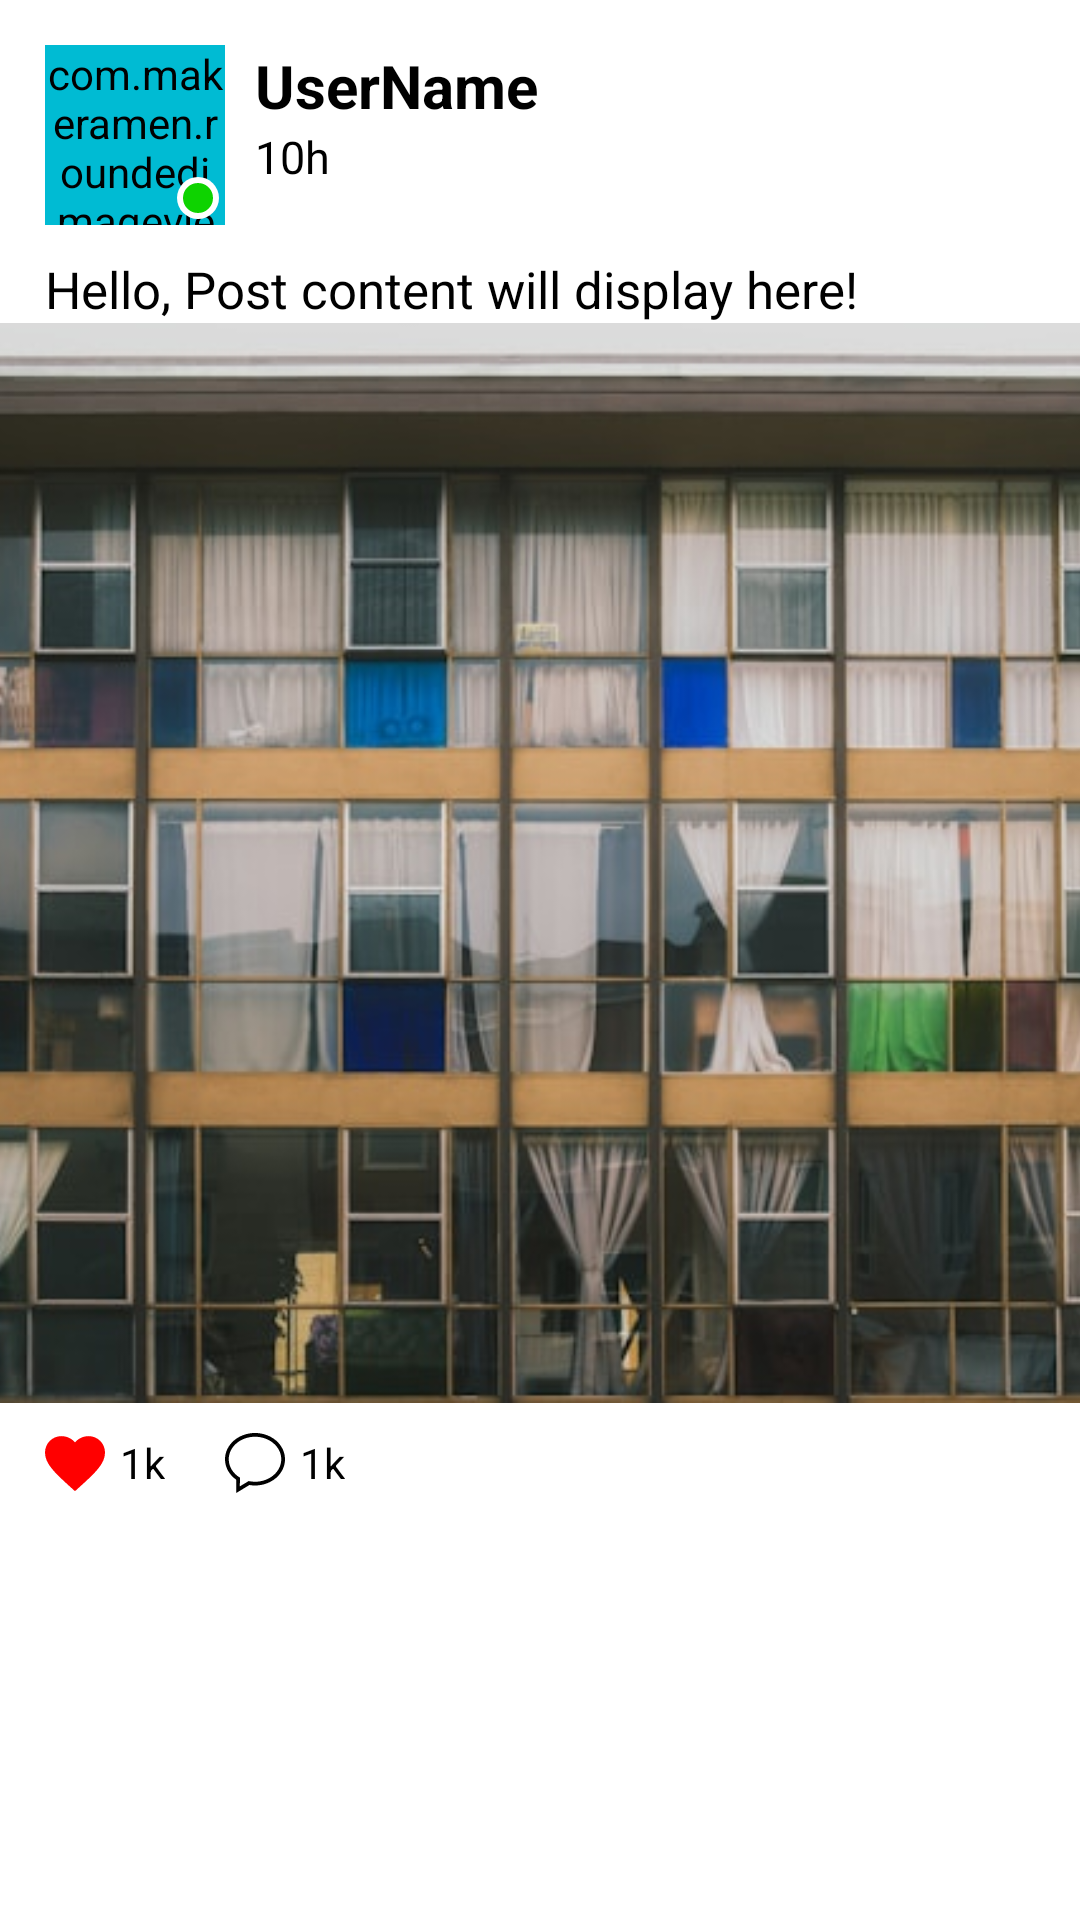

Where icons sit on this 1080*1920 app screen, as (x1, y1, x2, y2):
comment stroke: (225, 1433, 285, 1493)
heart: (45, 1436, 105, 1491)
